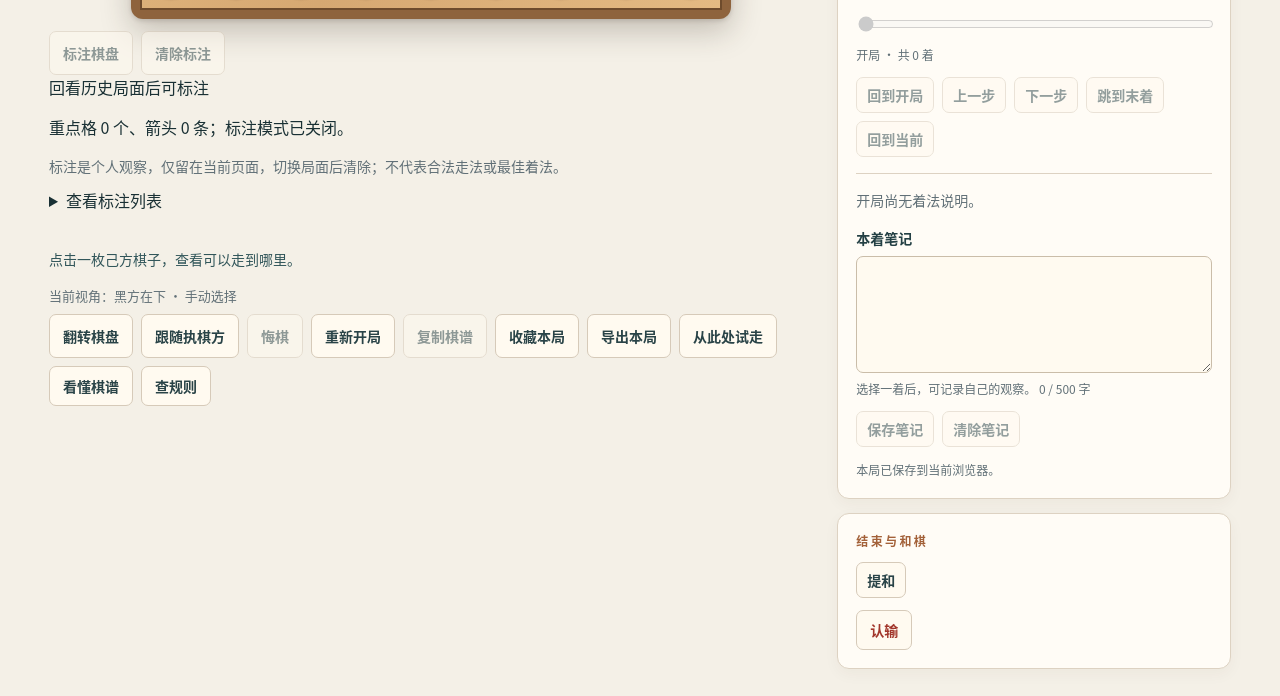
it: play perspective preferences › retains manual perspective across new games and preserves saved difficulty
(page scrolled)
Click the button "重新开局". click: (353, 336)
box: [311,314,395,358]
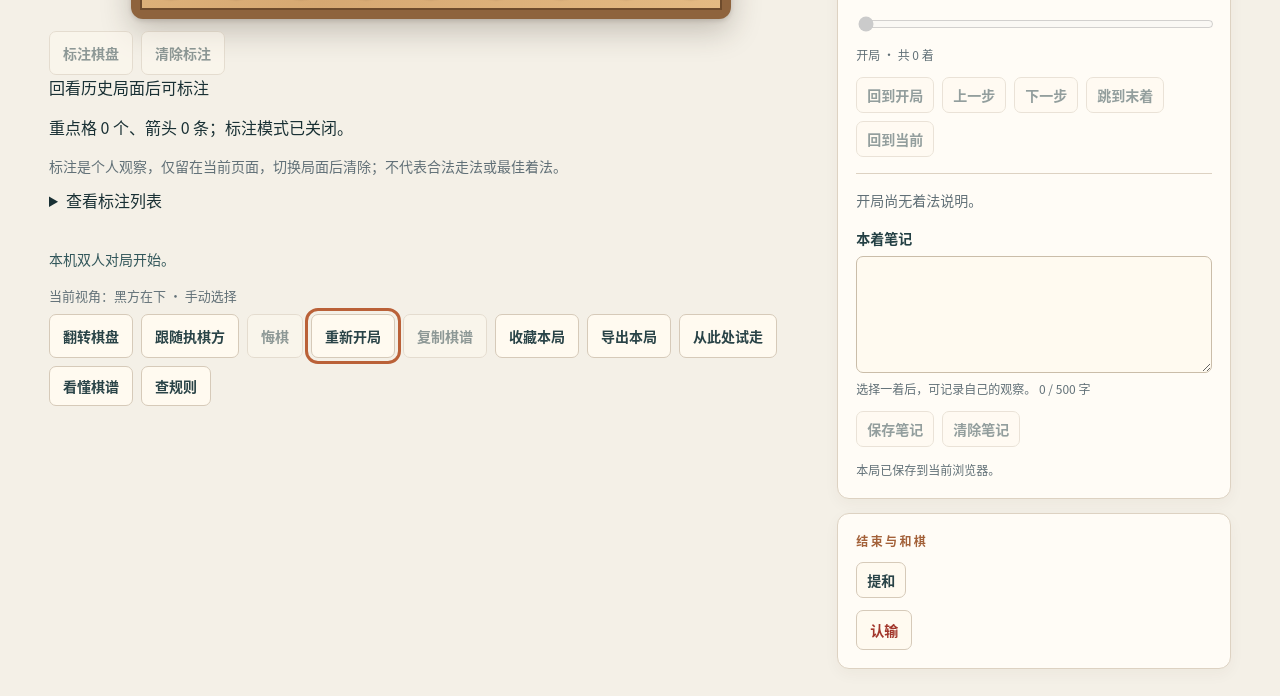
Click the button "翻转棋盘". click: (91, 336)
box: [49,314,133,358]
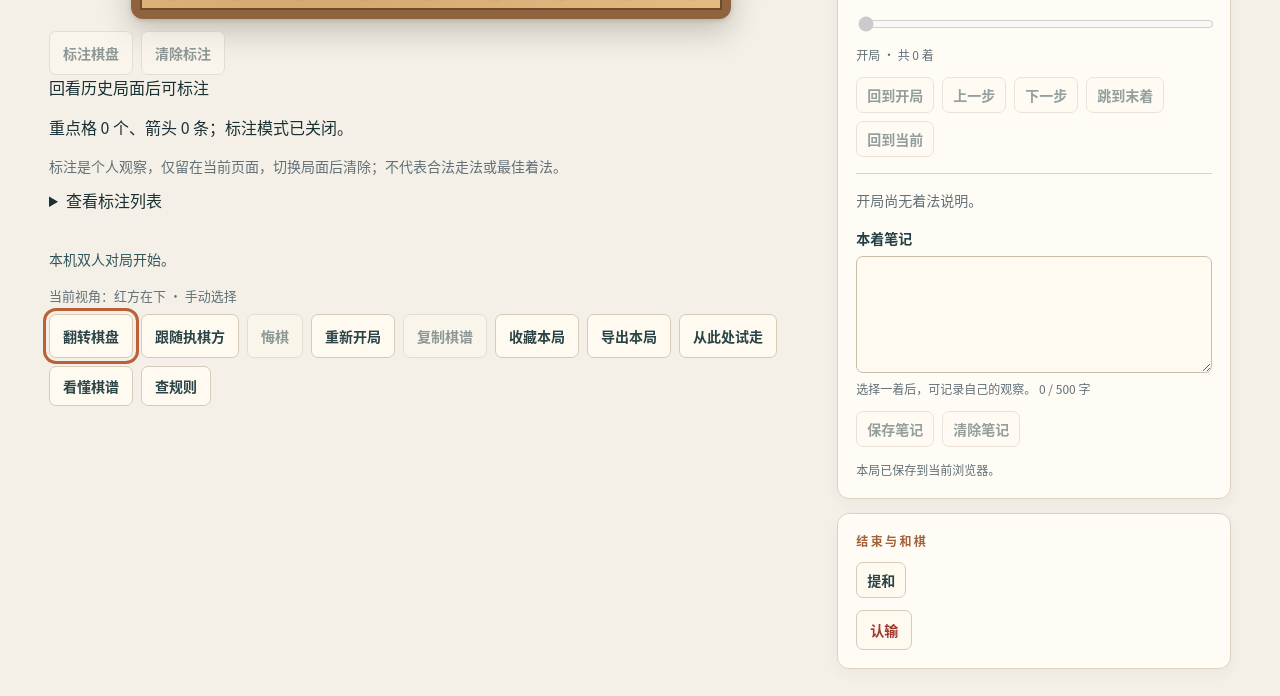
Check: the text "当前视角：红方在下 · 手动选择" is shown, box [49,286,237,305]
